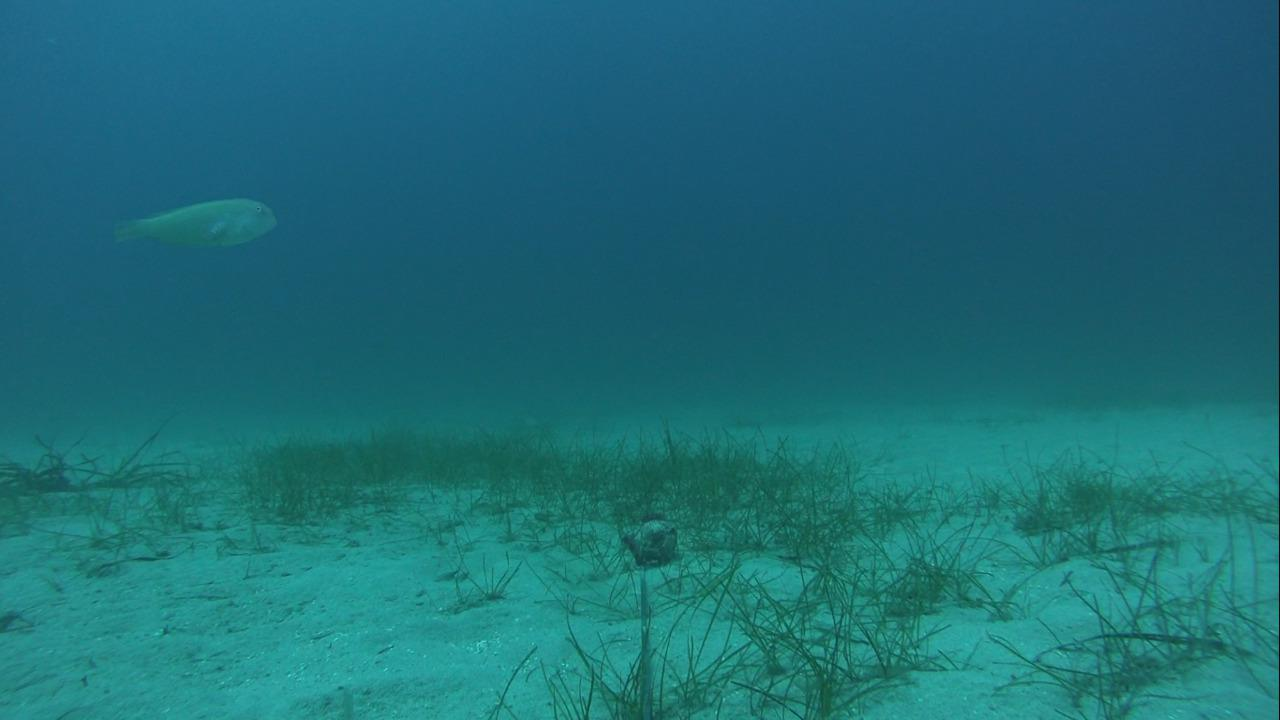raor: (113, 192, 282, 253)
